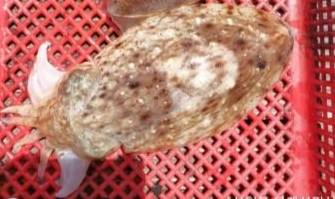Cephalopod: (0, 4, 292, 198)
